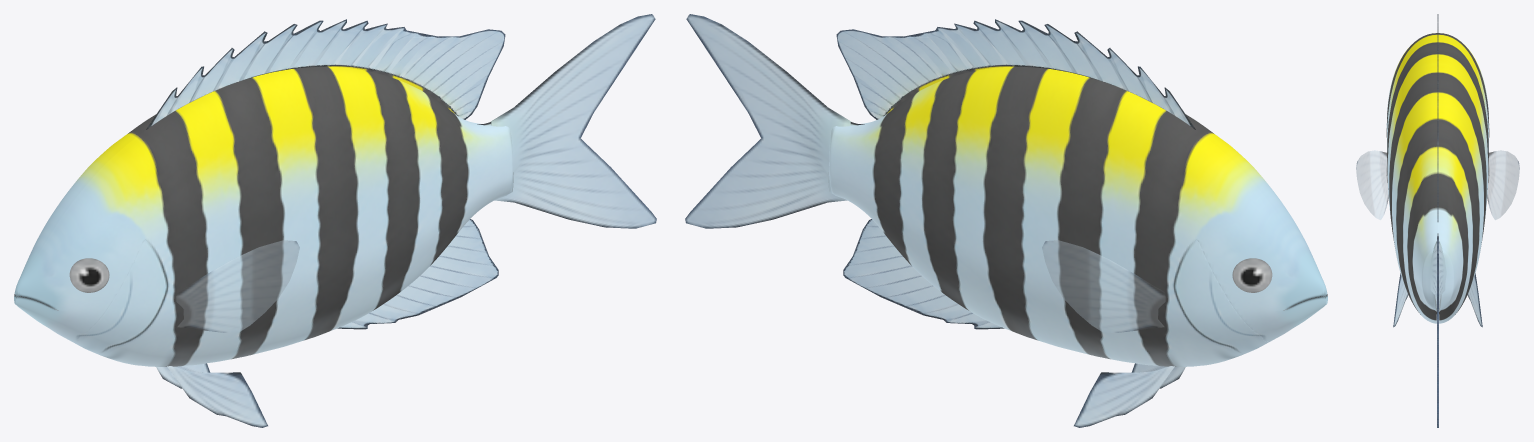
File: oyabiccha-light-v5.glb
The picture shows the model from 3 angles, left to right: view 1: azimuth 30°, elevation 25°; view 2: azimuth 150°, elevation 25°; view 3: azimuth 270°, elevation 25°; orthographic projection. The views are drawn at different scales.
Visible parts, largest first — view 1: body, caudal, dorsal, pectoral_1, anal, operculum_1, pelvic_1, eye_1; view 2: body, caudal, dorsal, pectoral_-1, anal, operculum_-1, pelvic_-1, eye_-1; view 3: body, pectoral_-1, pectoral_1, caudal, dorsal, pelvic_-1, pelvic_1.
Boxes of the visible parts, x1,y1,x2,y2 form: body: (14,67,513,366); caudal: (490,14,656,228); dorsal: (146,19,505,129); pectoral_1: (176,240,299,332); anal: (337,219,498,329); operculum_1: (71,240,167,352); pelvic_1: (167,366,267,427); eye_1: (69,258,109,292); body: (828,67,1327,366); caudal: (685,14,851,228); dorsal: (836,19,1195,129); pectoral_-1: (1042,240,1165,332); anal: (843,219,1004,329); operculum_-1: (1174,240,1270,352); pelvic_-1: (1074,366,1174,427); eye_-1: (1232,258,1272,292); body: (1386,33,1489,323); pectoral_-1: (1487,150,1519,219); pectoral_1: (1356,150,1388,219); caudal: (1429,236,1446,427); dorsal: (1437,14,1438,235); pelvic_-1: (1467,273,1482,327); pelvic_1: (1393,273,1408,327).
Bounding box in the file's own units: 0.18 × 0.0996 × 0.047.
Materials: 5 (5 with a texture image).
